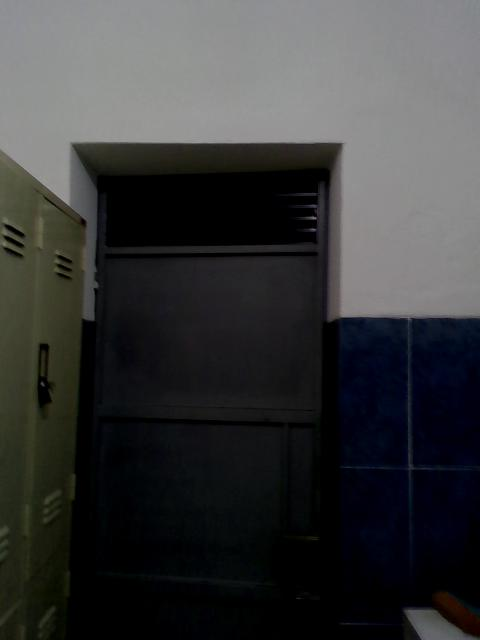closed_door: (79, 166, 323, 639)
